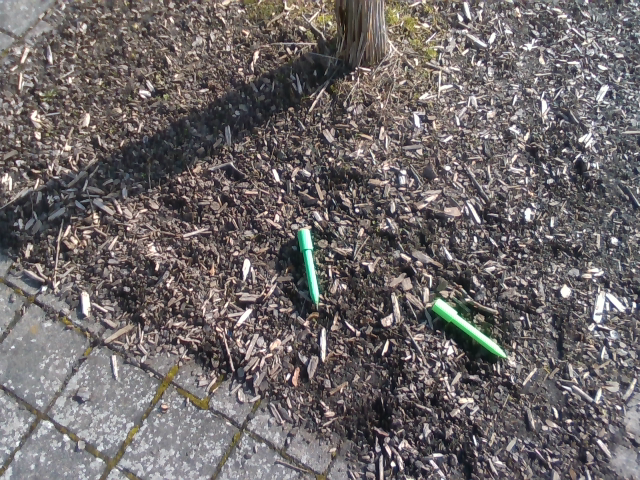Probe: (427, 293, 511, 364), (291, 225, 333, 319)
